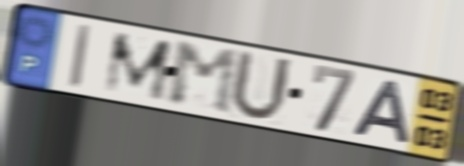7: (309, 63, 359, 135)
A: (348, 78, 414, 147)
I: (67, 22, 94, 92)
M: (167, 39, 242, 117), (101, 31, 175, 104)
U: (227, 47, 295, 124)
